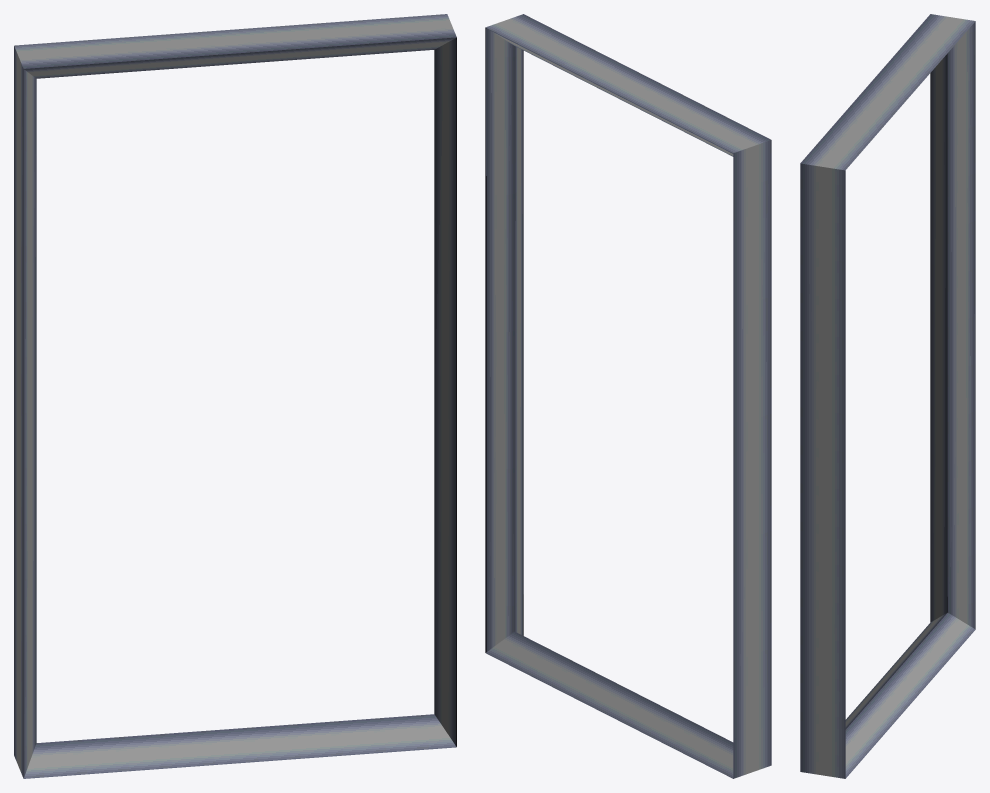
Rendered from primary_115.glb.
3 renders of one model, left to right at view 1: azimuth 30°, elevation 25°; view 2: azimuth 150°, elevation 25°; view 3: azimuth 270°, elevation 25°, orthographic. The views are drawn at different scales.
Visible parts, largest first — view 1: Object; view 2: Object; view 3: Object.
Part boxes in pixels (x1,y1,x2,y2): Object: [14, 14, 456, 778]; Object: [485, 14, 771, 778]; Object: [800, 14, 975, 778].
Size of the model in its own units: 1.17 by 2.13 by 0.5568.
Materials: 1 (1 with a texture image).
